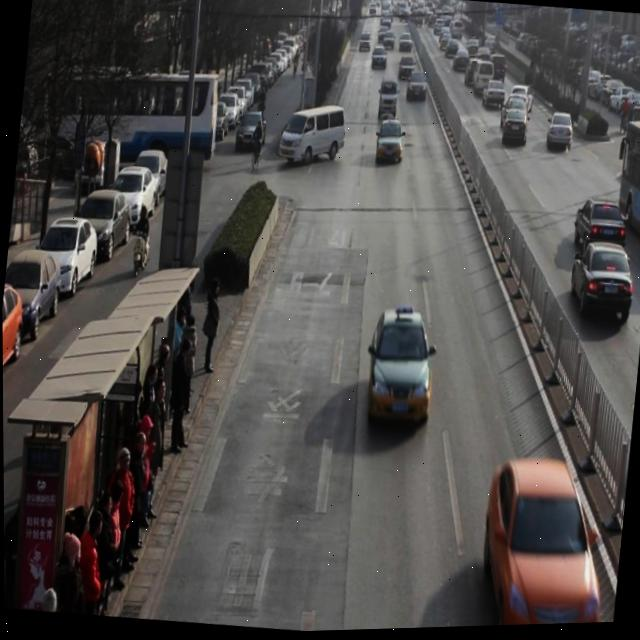car: (473, 455, 615, 629), (363, 310, 439, 432), (566, 242, 638, 331), (571, 199, 629, 266), (373, 118, 406, 170), (545, 114, 574, 156), (500, 110, 529, 151), (498, 100, 529, 138), (506, 86, 535, 120), (404, 72, 429, 110), (483, 55, 508, 93), (480, 81, 507, 114), (461, 60, 485, 92), (396, 59, 417, 87), (451, 51, 471, 78), (472, 49, 491, 74)
truck: (276, 102, 348, 172), (376, 77, 400, 125), (471, 63, 495, 103)
van: (612, 111, 640, 248)
